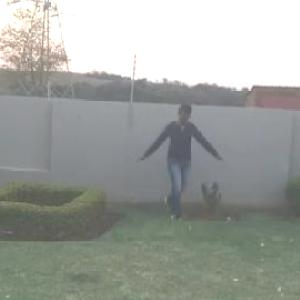land: (136, 105, 222, 226)
